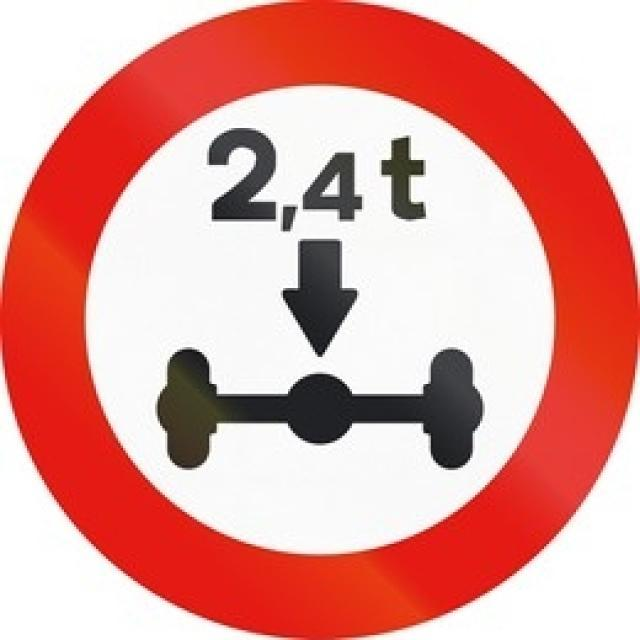axle load limit: (18, 23, 616, 623)
